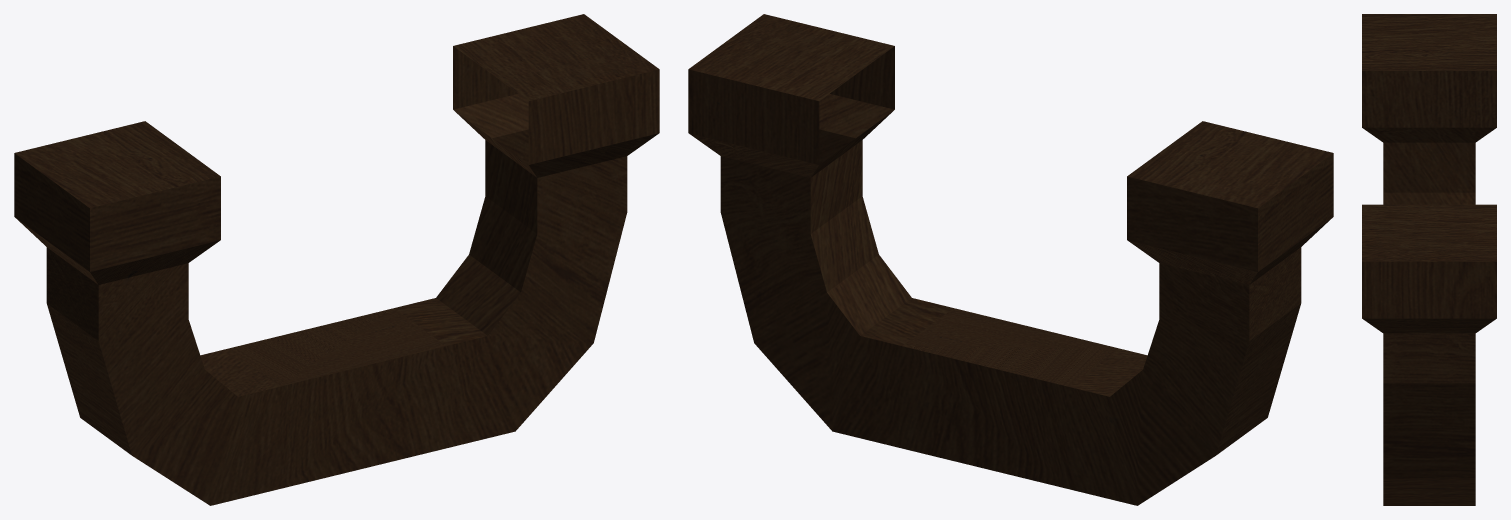
Rendered from QI-palace-2dougong.fbx.
The picture shows the model from 3 angles, left to right: view 1: azimuth 30°, elevation 25°; view 2: azimuth 150°, elevation 25°; view 3: azimuth 270°, elevation 25°; orthographic projection. The views are drawn at different scales.
Parts seen in each view (by area): view 1: Cylinder.005_Baked; view 2: Cylinder.005_Baked; view 3: Cylinder.005_Baked.
Part boxes in pixels (<box>): Cylinder.005_Baked: <box>14,14,659,505</box>; Cylinder.005_Baked: <box>688,14,1333,505</box>; Cylinder.005_Baked: <box>1362,14,1496,505</box>.
Bounding box in the file's own units: 201 × 114 × 46.29.
Materials: 1 (1 with a texture image).
